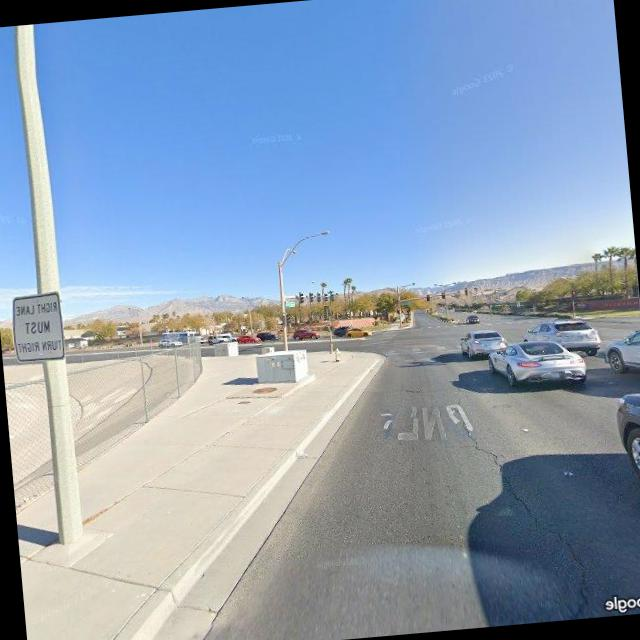crack: (467, 413, 598, 604)
